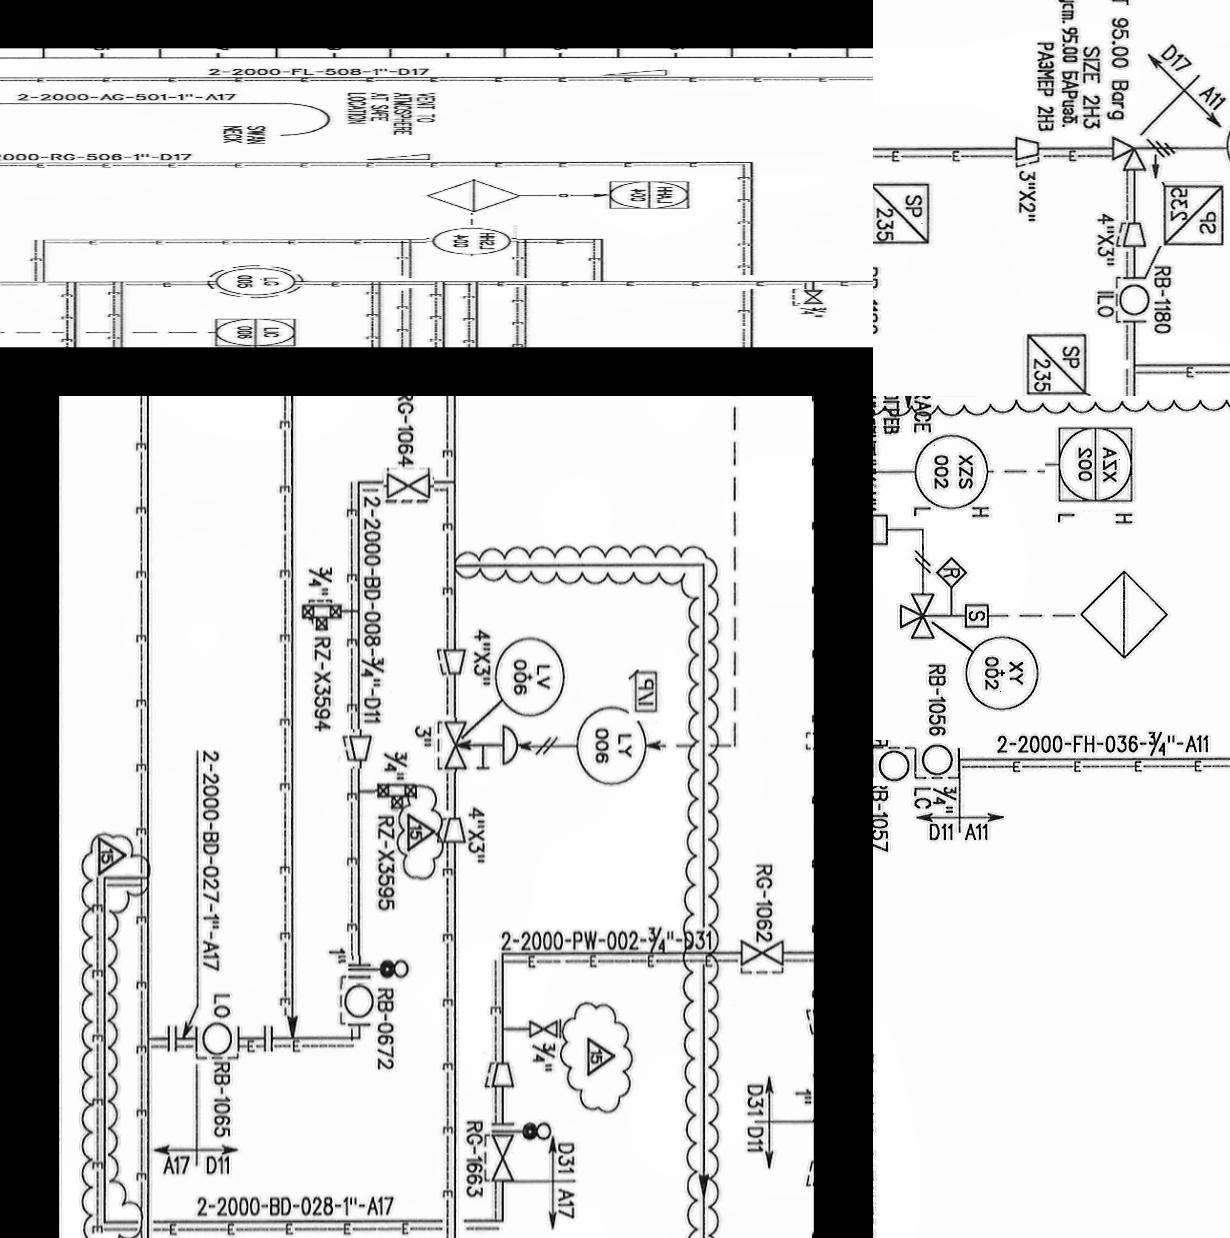2 WAY VALVE: (374, 397, 415, 415)
3 WAY GENERAL VALVE: (895, 587, 935, 645)
ANGLERELIEF VALVE: (1109, 137, 1176, 178)
CONCENTRIC REDUCER: (438, 415, 470, 449), (484, 663, 519, 694), (1117, 221, 1149, 250), (1011, 137, 1043, 164)
DCS ACCESSIBLE: (1044, 426, 1140, 510), (198, 313, 303, 347), (601, 179, 698, 212)
END FLANGED: (256, 622, 280, 666), (160, 623, 180, 665)
FIELD INSTRUMENT: (962, 632, 1044, 718), (910, 431, 992, 514), (206, 262, 309, 302), (426, 225, 516, 256), (913, 736, 964, 780), (198, 623, 242, 666), (873, 740, 913, 786), (1114, 280, 1152, 322), (339, 587, 377, 623)
GATE VALVE: (738, 541, 786, 576), (484, 734, 514, 792), (526, 615, 562, 647), (795, 290, 831, 305)
HARDWIRED INTERLOCK FIELD: (935, 552, 971, 593)
HARDWIRED INTERLOCK PRIMARY.: (1076, 565, 1178, 663), (422, 179, 517, 213)
REVISION TRIANGLE: (86, 435, 133, 482), (403, 413, 438, 460), (583, 639, 620, 682)
SPECIAL PIPING ITEM: (1024, 331, 1089, 397), (1157, 182, 1223, 247), (873, 182, 930, 246)
SPECTACLE BLIND CLOSED: (340, 560, 416, 588), (491, 716, 559, 747)
SPEED FLOW METER: (959, 602, 991, 631)
